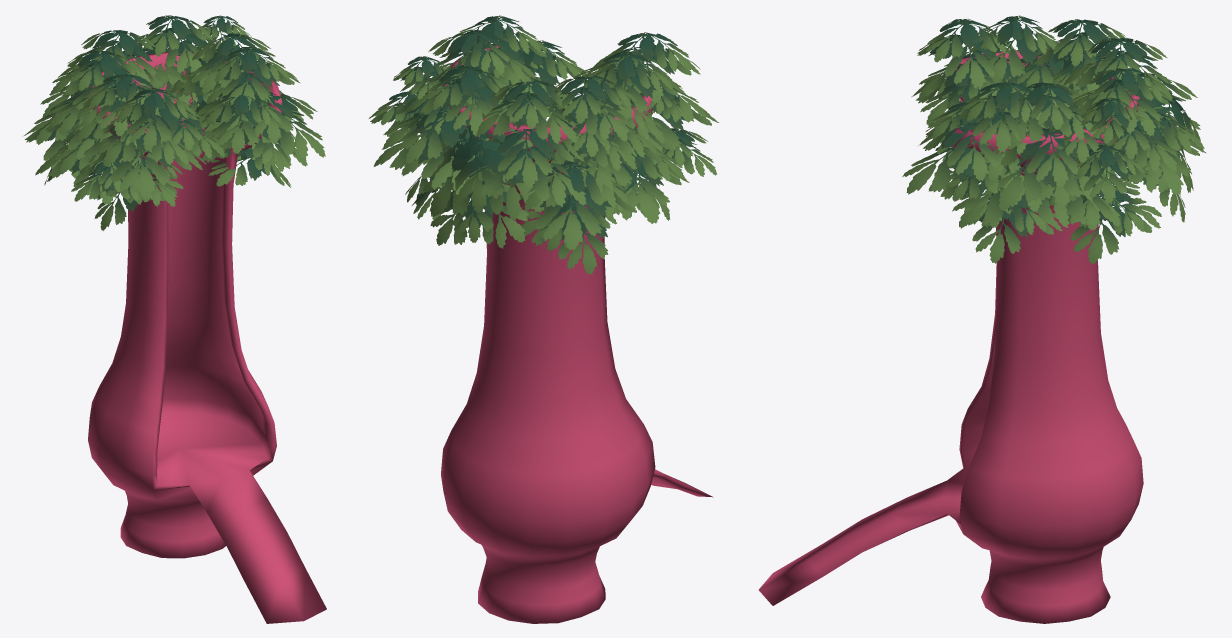
Rendered from land temple structure.fbx.
3 views of the same model, side by side, from view 1: azimuth 30°, elevation 25°; view 2: azimuth 150°, elevation 25°; view 3: azimuth 270°, elevation 25° (orthographic). The views are drawn at different scales.
Visible parts, largest first — view 1: land temple structure.003, PineLeavesOriginal20.040; view 2: land temple structure.003, PineLeavesOriginal20.040; view 3: land temple structure.003, PineLeavesOriginal20.040.
Part boxes in pixels (box(x1,y1,x2,y2)): land temple structure.003: box(88, 52, 326, 623); PineLeavesOriginal20.040: box(24, 15, 325, 230); land temple structure.003: box(441, 44, 713, 623); PineLeavesOriginal20.040: box(369, 15, 718, 274); land temple structure.003: box(758, 50, 1143, 623); PineLeavesOriginal20.040: box(902, 15, 1206, 264).
Bounding box in the file's own units: 315 × 573 × 436.
